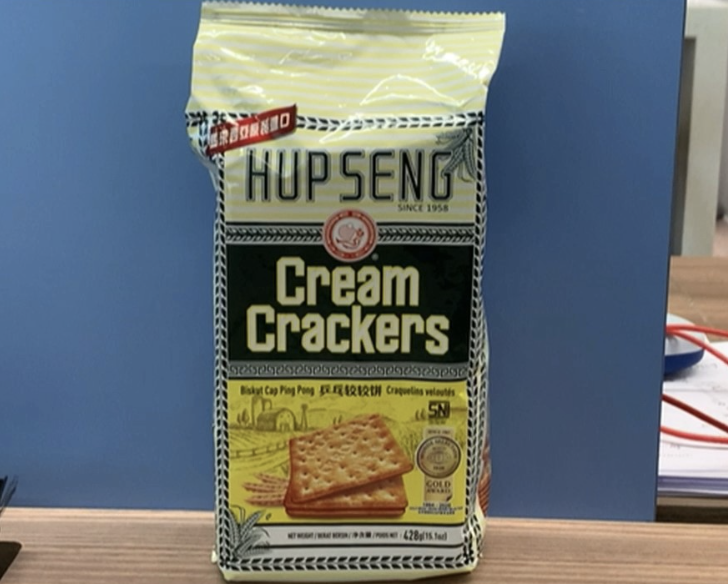crackers_450g: (223, 120, 470, 551)
